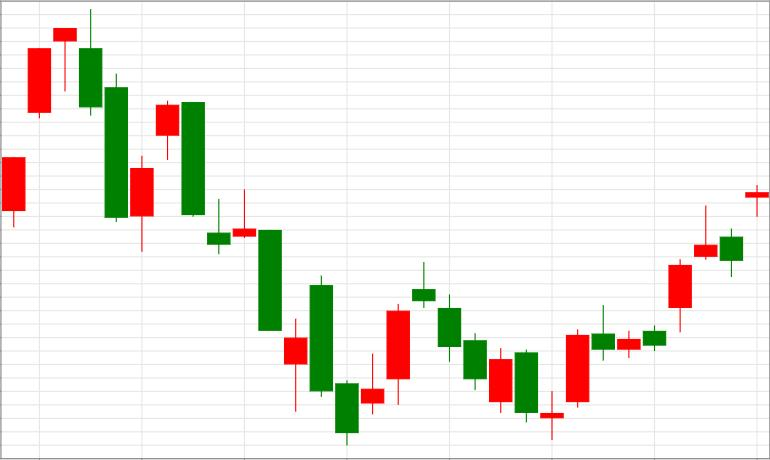morning_star_rise: (412, 262, 589, 439)
